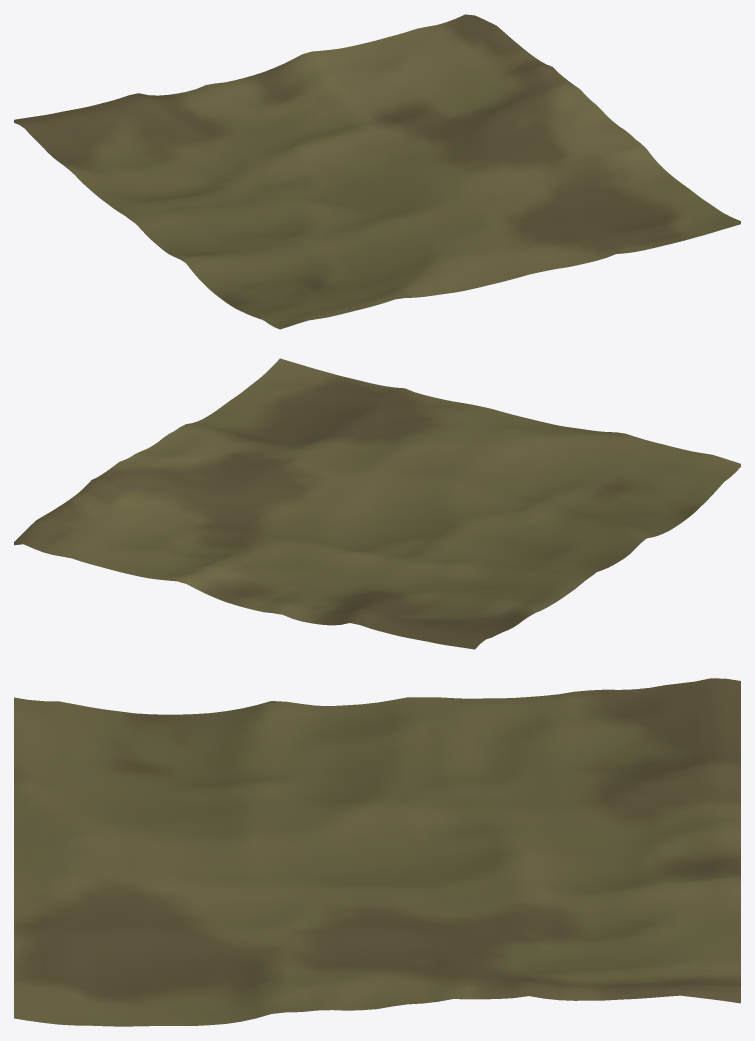
Rendered from land_m_01_08.glb.
3 renders of one model, top to bottom at view 1: azimuth 30°, elevation 25°; view 2: azimuth 150°, elevation 25°; view 3: azimuth 270°, elevation 25°, orthographic. The views are drawn at different scales.
Parts seen in each view (by area): view 1: land_m_01_08; view 2: land_m_01_08; view 3: land_m_01_08.
Boxes of the visible parts, box(x1,y1,x2,y2) form: land_m_01_08: box(14, 14, 740, 329); land_m_01_08: box(14, 358, 740, 649); land_m_01_08: box(14, 678, 740, 1026).
Size of the model in its own units: 960 by 59.9 by 960.
